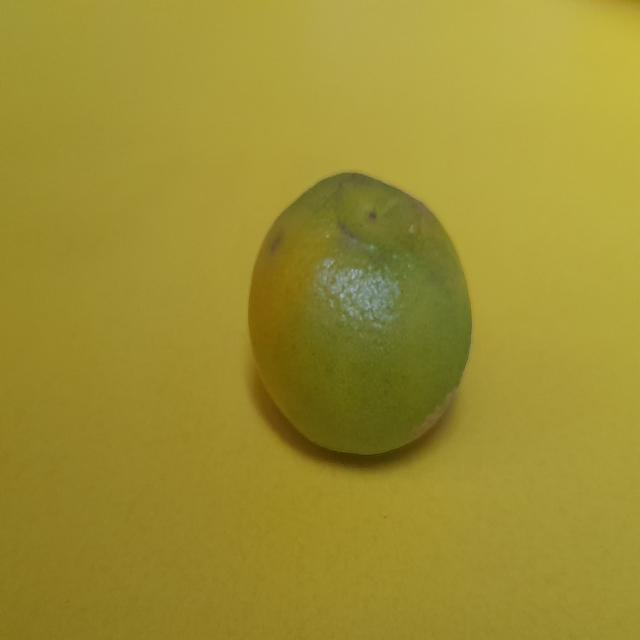greening: (229, 160, 478, 459)
